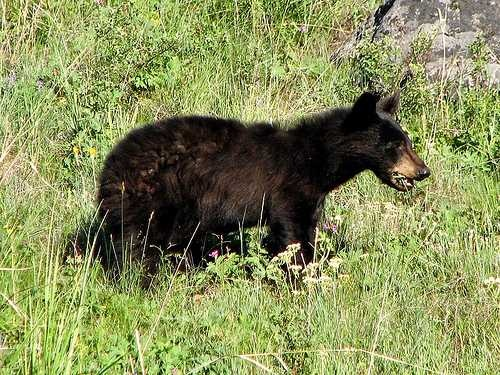bear: (324, 79, 452, 207)
